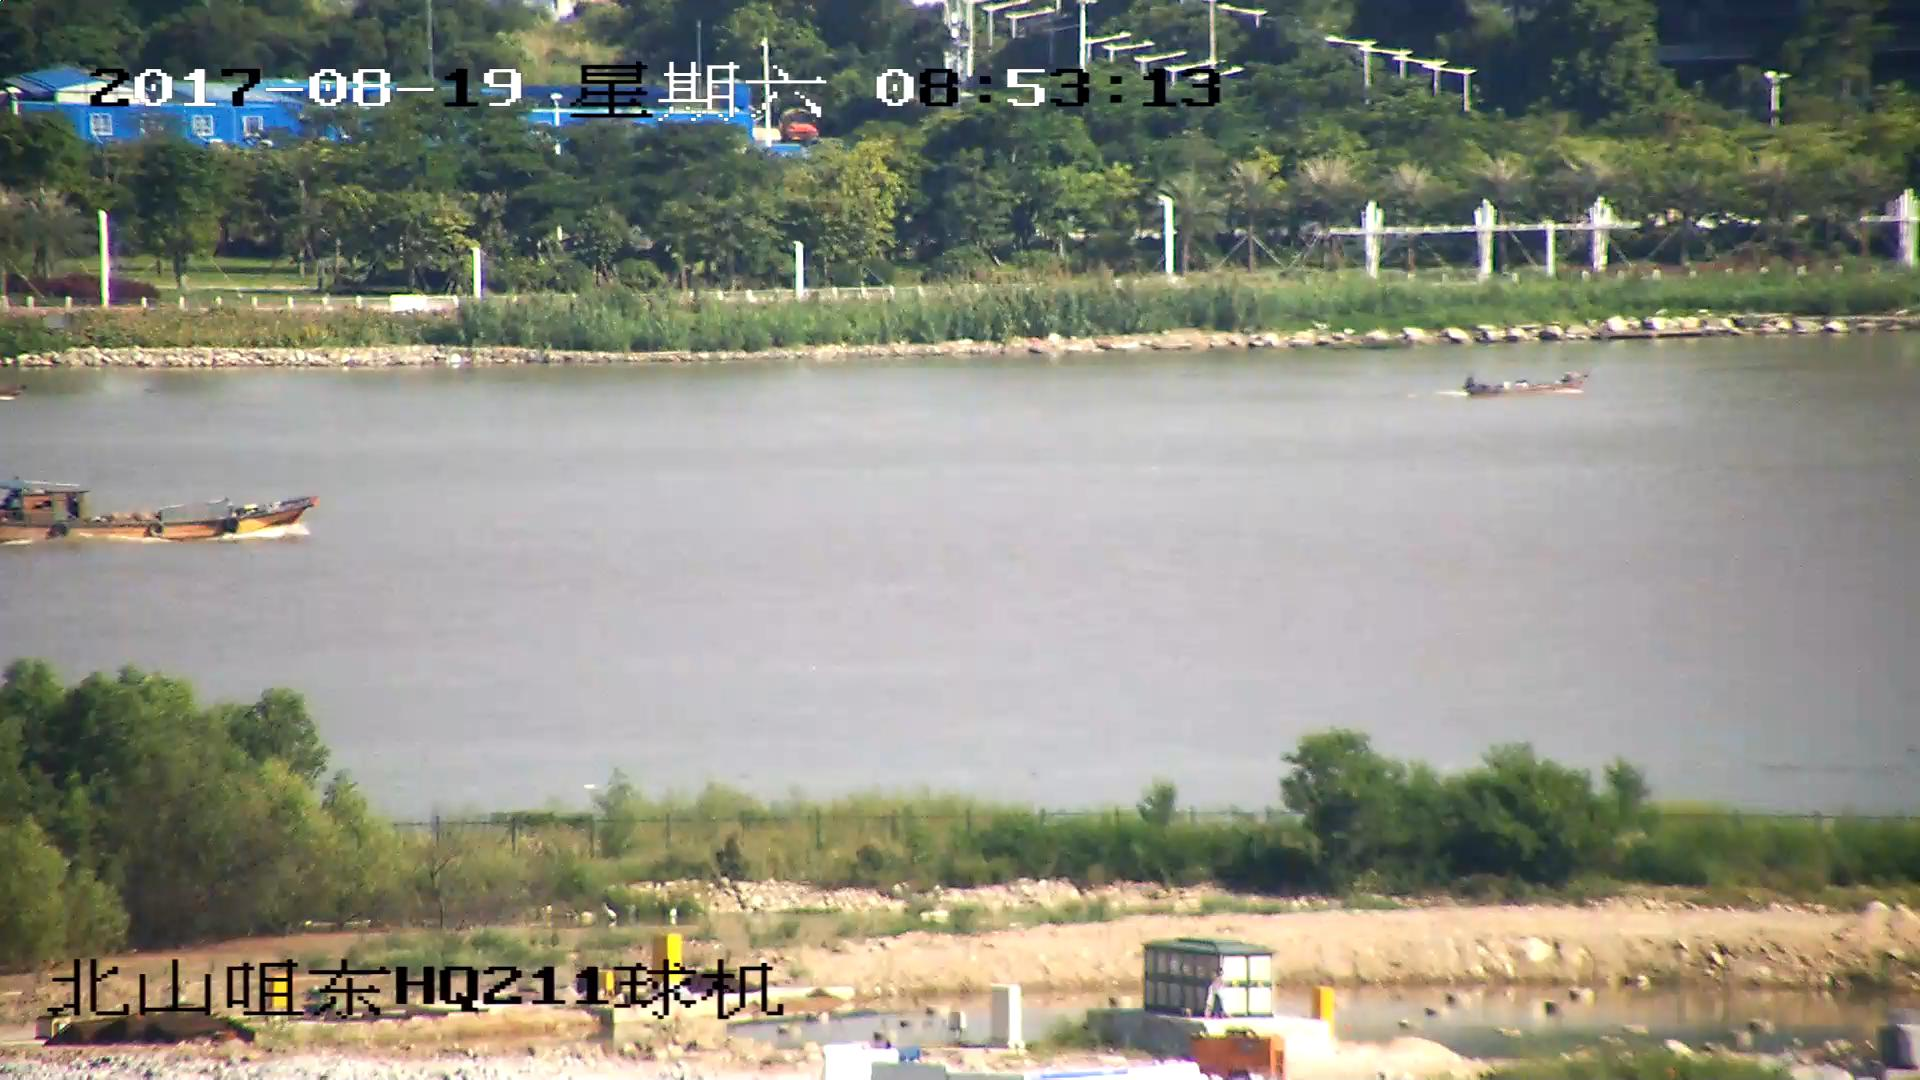fishing boat: (1, 479, 310, 544), (1464, 371, 1585, 398)
